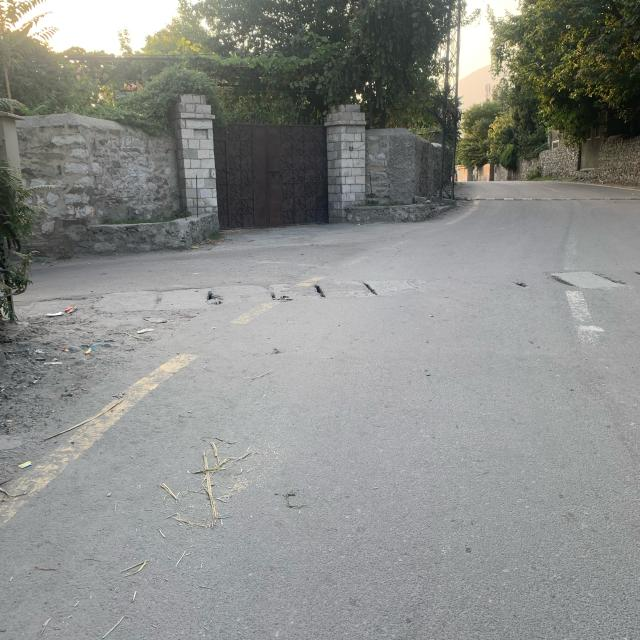Left-Turn: (39, 230, 442, 342)
straight: (470, 170, 616, 440)
